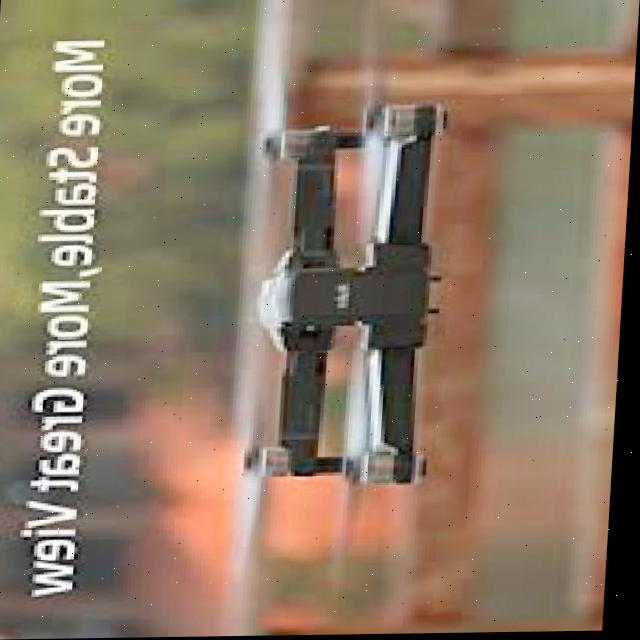drone: (217, 46, 486, 575)
